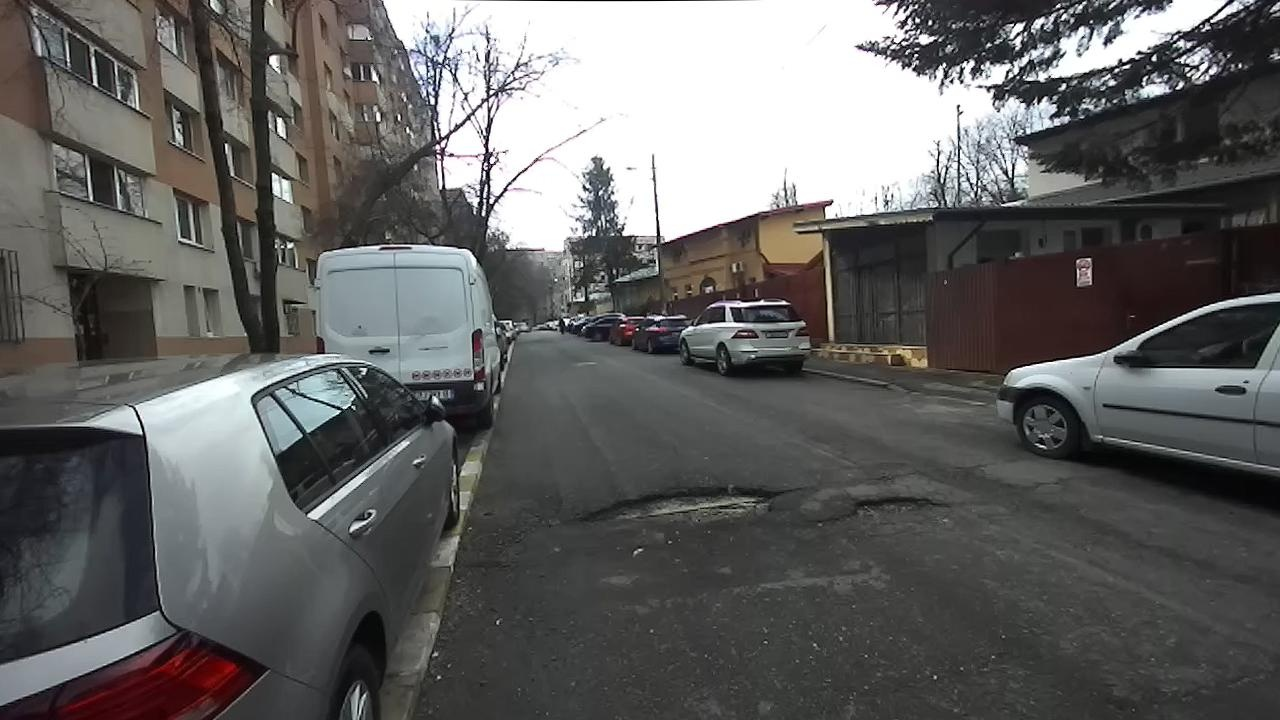pothole: (559, 478, 804, 536), (806, 492, 951, 527)
